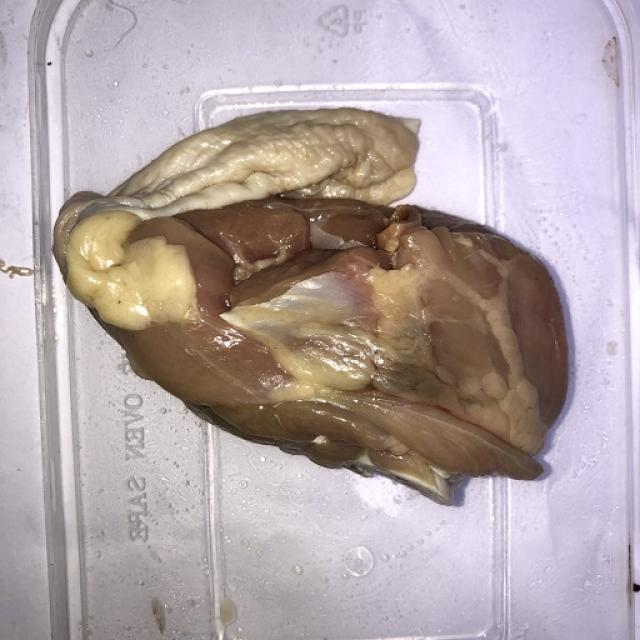chicken: (52, 89, 583, 510)
